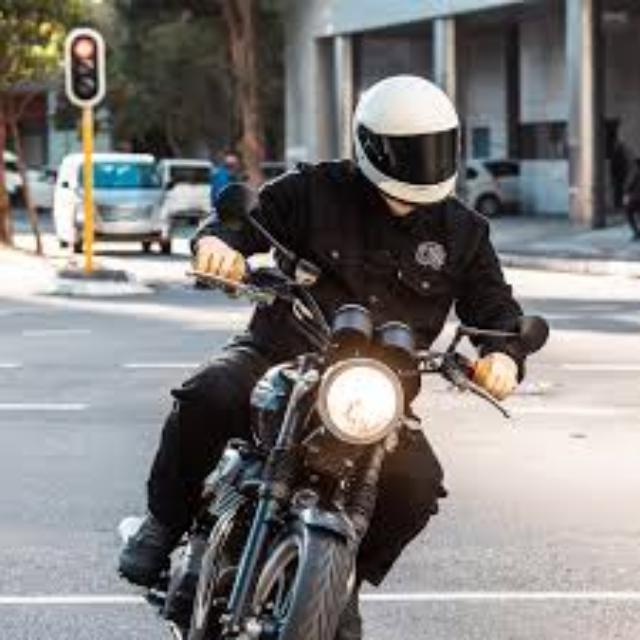motorcycle-helmets: (348, 69, 476, 215)
